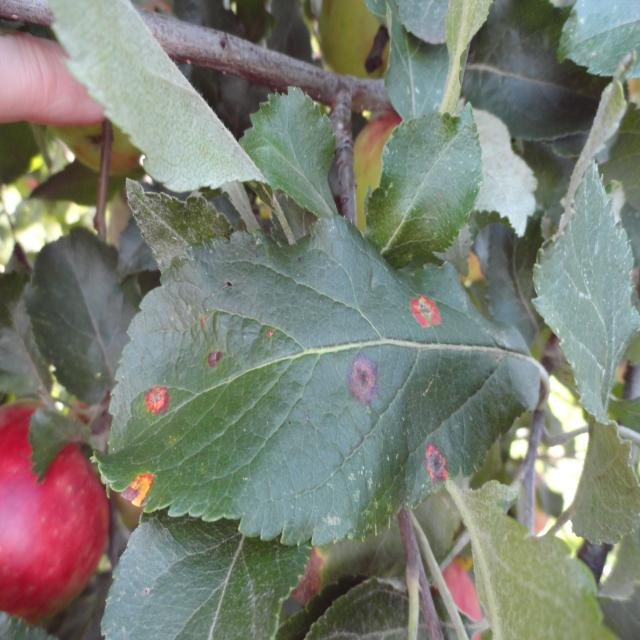Rust: (407, 423, 455, 496), (124, 445, 163, 530), (395, 278, 445, 338), (130, 363, 170, 427)
